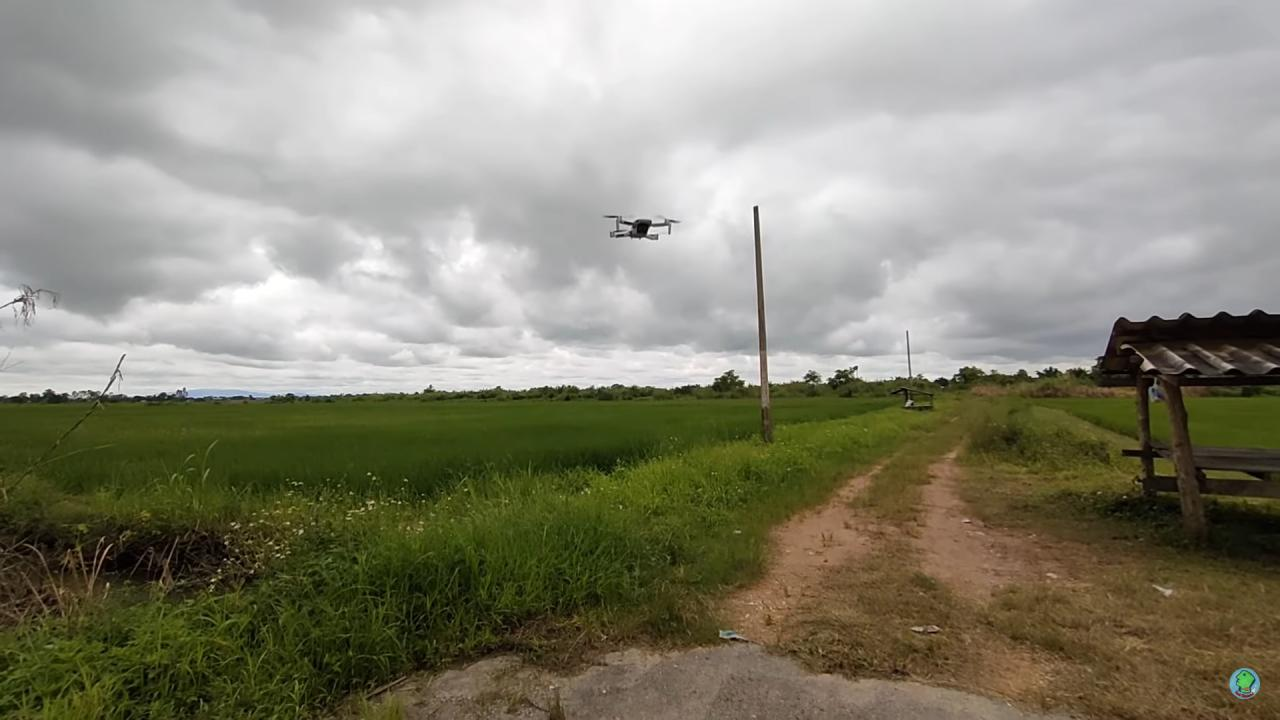Drone: (596, 202, 684, 250)
